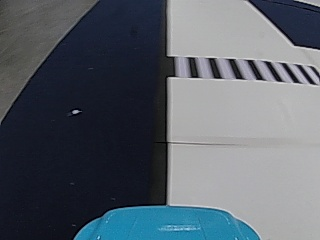CrossWalk: (173, 58, 307, 80)
